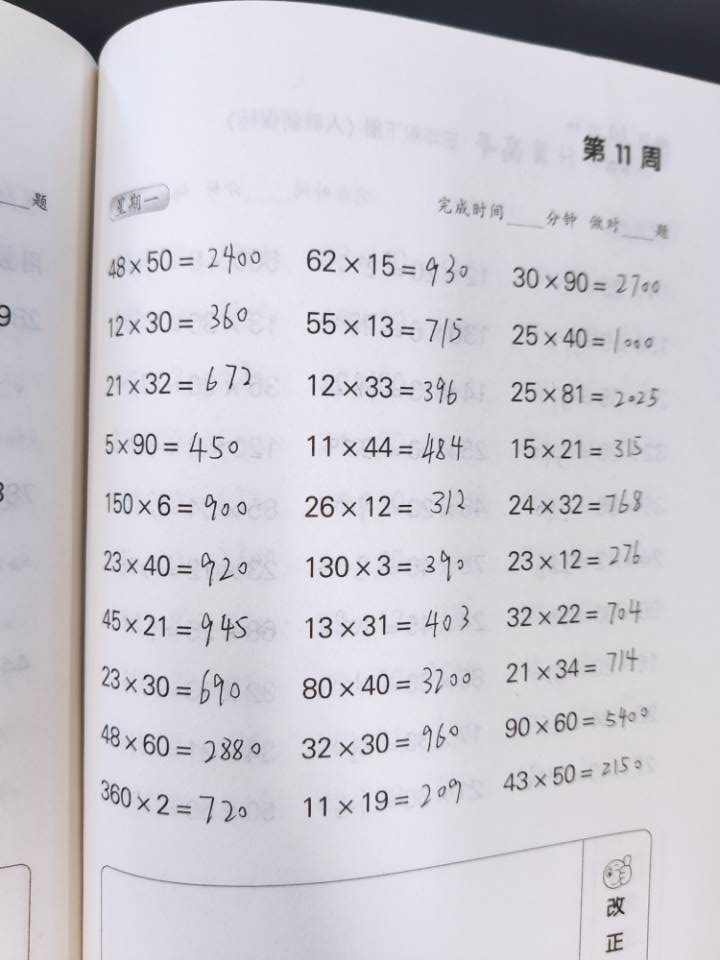equation: (485, 305, 539, 559), (573, 323, 626, 571), (264, 316, 311, 560), (173, 607, 224, 824), (358, 323, 403, 567), (445, 601, 490, 843), (560, 88, 609, 305), (538, 336, 582, 575), (225, 313, 267, 557), (310, 616, 356, 837), (262, 611, 309, 823), (522, 75, 565, 299), (223, 604, 267, 820), (235, 63, 274, 300), (182, 309, 218, 564), (449, 328, 489, 556), (318, 316, 356, 556), (357, 619, 400, 829), (400, 615, 440, 839), (479, 92, 522, 291), (409, 324, 444, 567), (320, 89, 361, 289), (494, 611, 530, 836), (356, 89, 395, 296), (193, 68, 231, 279), (584, 613, 619, 833), (403, 88, 440, 288), (281, 67, 314, 289), (442, 92, 476, 299), (544, 597, 572, 847)
